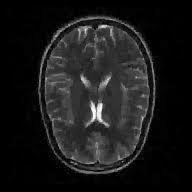Normal_Brain: (36, 15, 175, 185)
